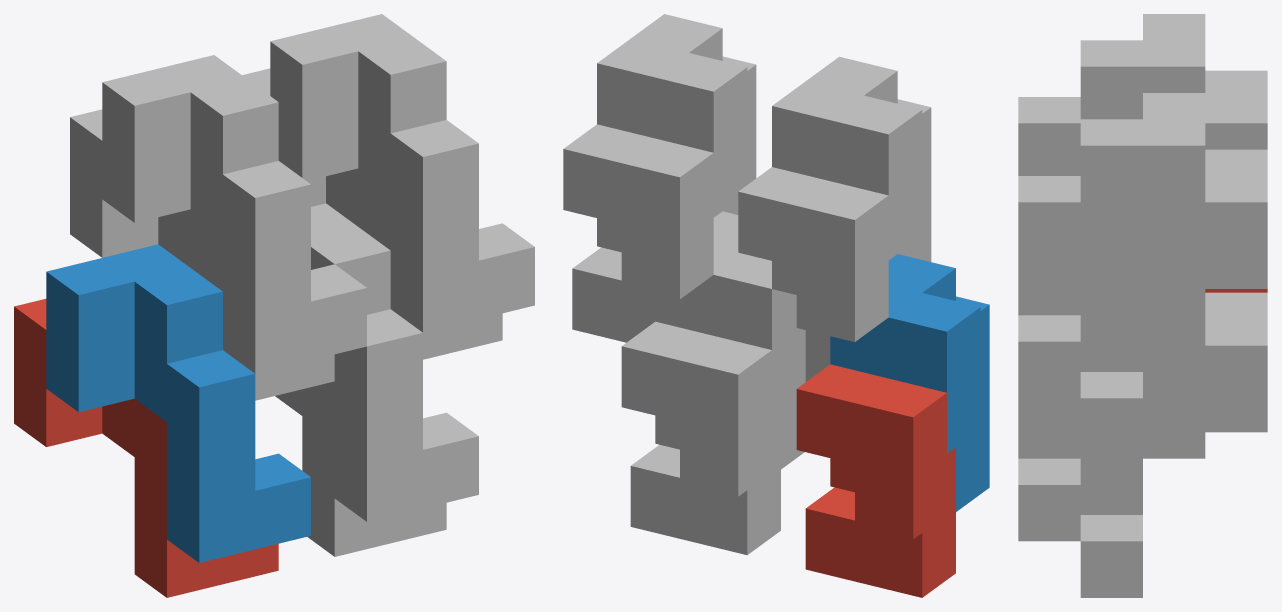
Rendered from tiling.obj.
3 views of the same model, side by side, from view 1: azimuth 30°, elevation 25°; view 2: azimuth 150°, elevation 25°; view 3: azimuth 270°, elevation 25° (orthographic). The views are drawn at different scales.
Visible parts, largest first — view 1: copy_1_domain_2, copy_1_domain_4, copy_1_domain_8, copy_1_domain_6, copy_1_domain_1, copy_1_domain_3, copy_1_domain_5, copy_1_domain_7; view 2: copy_1_domain_1, copy_1_domain_5, copy_1_domain_7, copy_1_domain_3, copy_1_domain_4, copy_1_domain_8, copy_1_domain_2, copy_1_domain_6; view 3: copy_1_domain_8, copy_1_domain_7, copy_1_domain_5, copy_1_domain_4, copy_1_domain_6, copy_1_domain_3.
Part boxes in pixels (bbox=[...]): copy_1_domain_2: bbox=[46, 244, 310, 562]; copy_1_domain_4: bbox=[102, 55, 366, 373]; copy_1_domain_8: bbox=[270, 14, 534, 332]; copy_1_domain_6: bbox=[311, 203, 478, 521]; copy_1_domain_1: bbox=[14, 298, 278, 597]; copy_1_domain_3: bbox=[70, 109, 334, 400]; copy_1_domain_5: bbox=[275, 381, 446, 556]; copy_1_domain_7: bbox=[242, 68, 502, 359]; copy_1_domain_1: bbox=[796, 364, 955, 597]; copy_1_domain_5: bbox=[621, 321, 780, 555]; copy_1_domain_7: bbox=[563, 124, 722, 342]; copy_1_domain_3: bbox=[738, 167, 897, 381]; copy_1_domain_4: bbox=[772, 56, 931, 261]; copy_1_domain_8: bbox=[597, 14, 756, 214]; copy_1_domain_2: bbox=[830, 254, 989, 511]; copy_1_domain_6: bbox=[655, 211, 805, 469]; copy_1_domain_8: bbox=[1018, 93, 1205, 398]; copy_1_domain_7: bbox=[1080, 149, 1267, 454]; copy_1_domain_5: bbox=[1080, 292, 1267, 597]; copy_1_domain_4: bbox=[1018, 14, 1205, 175]; copy_1_domain_6: bbox=[1018, 315, 1205, 541]; copy_1_domain_3: bbox=[1205, 70, 1267, 149].
Size of the model in its own units: 7 by 8 by 4.
